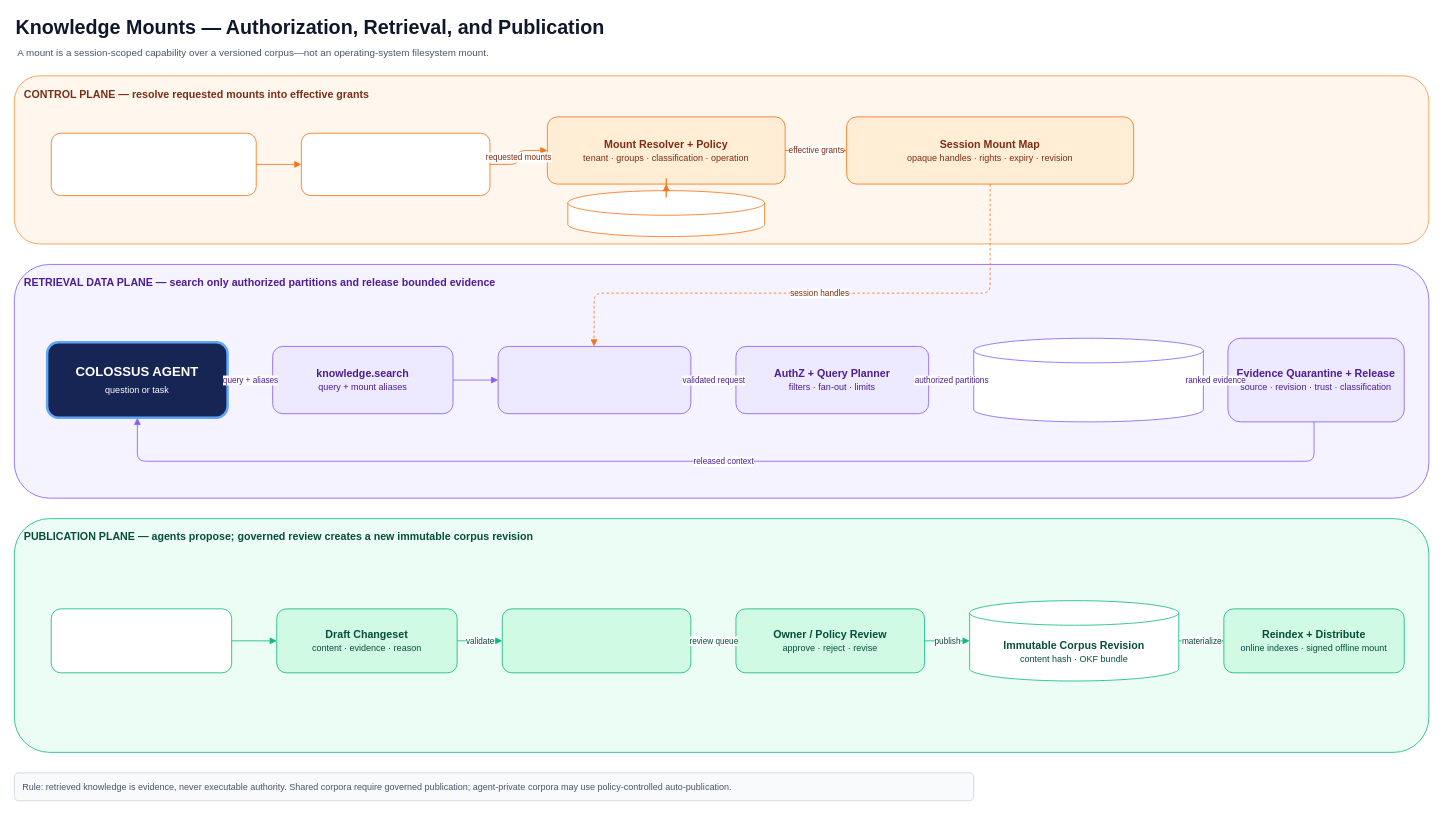
The diagram is 1443 pixels wide and 815 high, and some of its shapes have lost their labels. The box of each missing label's shape, as (x1, y1, x2, y2) in pixels:
Agent + Delegating User workload identity · workflow · endpoint: (50, 132, 256, 196)
Agent Proposal new fact or correction: (50, 608, 232, 673)
Authorized Corpus Indexes corporate · team · project · agent-private: (973, 337, 1203, 422)
Corpus Registry owner · policy · current revision: (567, 190, 765, 237)
Requested Mounts aliases · modes · revision rules: (301, 132, 490, 196)
Retrieval Gateway validate handles · bound query: (497, 346, 691, 414)
Validation schema · provenance · secrets · access: (501, 608, 691, 673)
